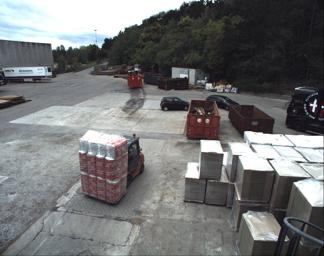rockwool_batts: (78, 129, 127, 204)
